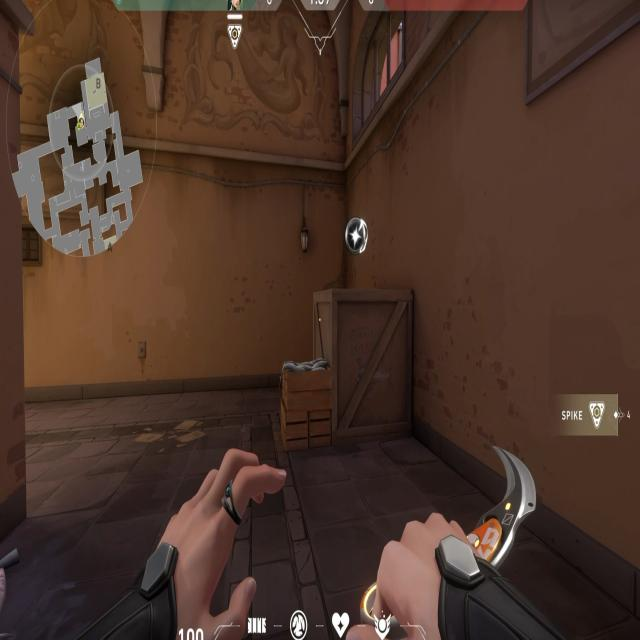B_Main_Wallbang: (285, 209, 373, 436)
